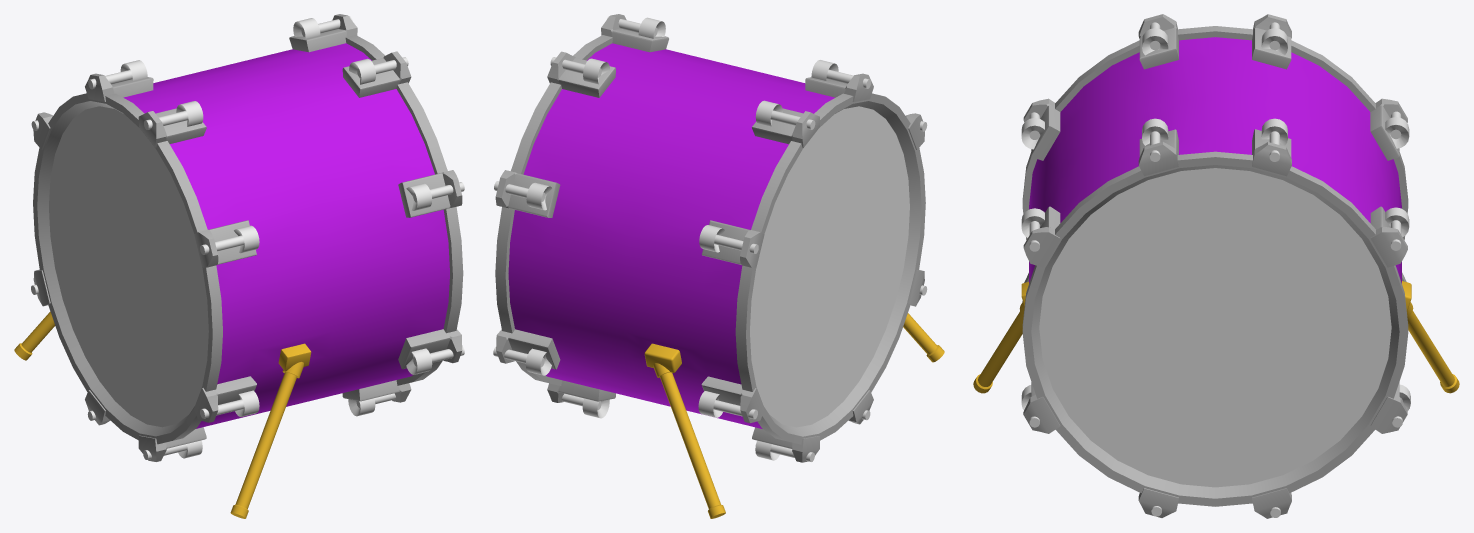
Rendered from bombo.fbx.
The picture shows the model from 3 angles, left to right: view 1: azimuth 30°, elevation 25°; view 2: azimuth 150°, elevation 25°; view 3: azimuth 270°, elevation 25°; orthographic projection. The views are drawn at different scales.
Parts seen in each view (by area): view 1: Cylinder.032; view 2: Cylinder.032; view 3: Cylinder.032.
Boxes of the visible parts, <box> form: Cylinder.032: <box>14,14,464,518</box>; Cylinder.032: <box>493,14,944,518</box>; Cylinder.032: <box>973,14,1459,518</box>.
Bounding box in the file's own units: 48.33 × 62.99 × 73.04.
